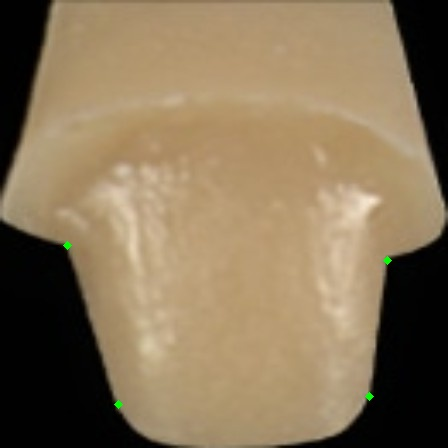coin_1: (387, 260, 407, 280)
coin_2: (369, 396, 389, 416)
coin_3: (67, 245, 87, 265)
coin_4: (118, 404, 138, 424)
